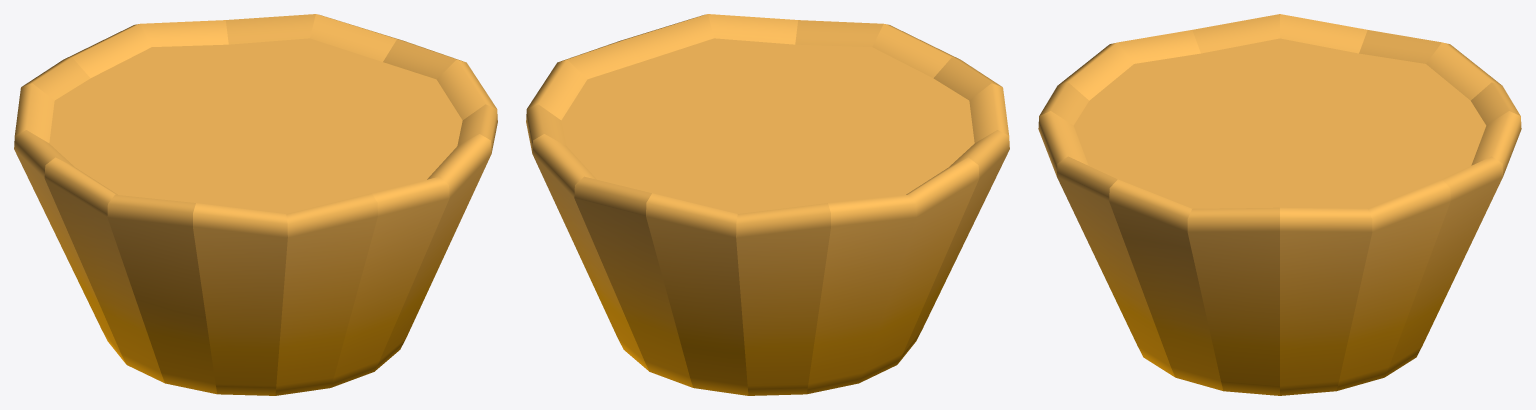
Rendered from Cupcake_base.003.fbx.
3 renders of one model, left to right at view 1: azimuth 30°, elevation 25°; view 2: azimuth 150°, elevation 25°; view 3: azimuth 270°, elevation 25°, orthographic.
Parts seen in each view (by area): view 1: Cupcake_base.003; view 2: Cupcake_base.003; view 3: Cupcake_base.003.
Boxes of the visible parts, x1,y1,x2,y2 form: Cupcake_base.003: (14, 14, 497, 395); Cupcake_base.003: (526, 14, 1009, 395); Cupcake_base.003: (1038, 14, 1521, 395).
Bounding box in the file's own units: 80.51 × 80.51 × 41.94.
